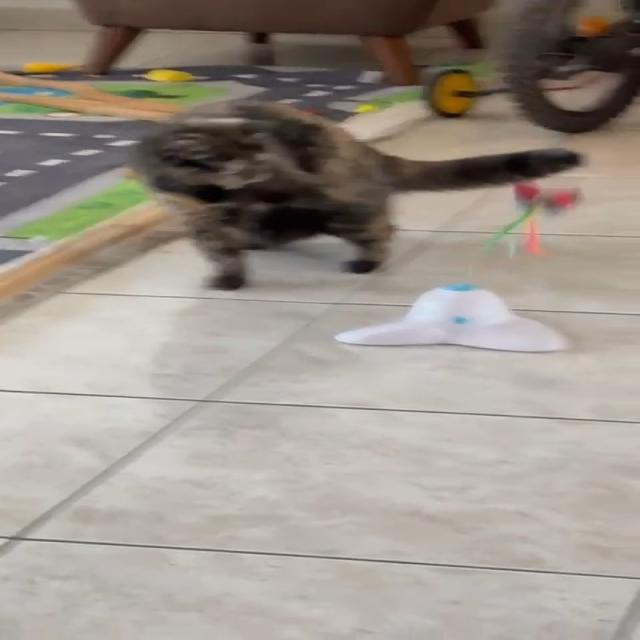authorized: (123, 97, 585, 290)
